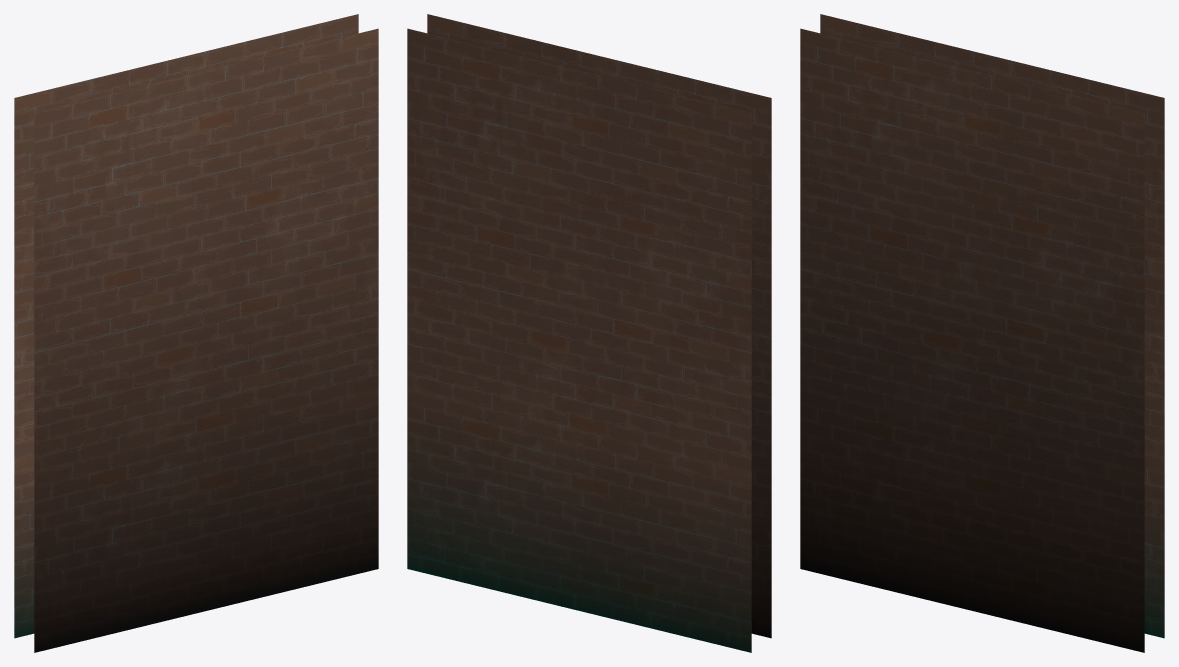
Rendered from q-downtown-brick-plain-3.glb.
The picture shows the model from 3 angles, left to right: view 1: azimuth 30°, elevation 25°; view 2: azimuth 150°, elevation 25°; view 3: azimuth 330°, elevation 25°; orthographic projection.
Visible parts, largest first — view 1: Brick_Plain_3; view 2: Brick_Plain_3; view 3: Brick_Plain_3.
Part boxes in pixels (left/top/right/bottom): Brick_Plain_3: left=14, top=14, right=378, bottom=652; Brick_Plain_3: left=407, top=14, right=771, bottom=652; Brick_Plain_3: left=800, top=14, right=1164, bottom=652.
Bounding box in the file's own units: 2 × 3 × 0.2.
2 materials, 2 textured.
